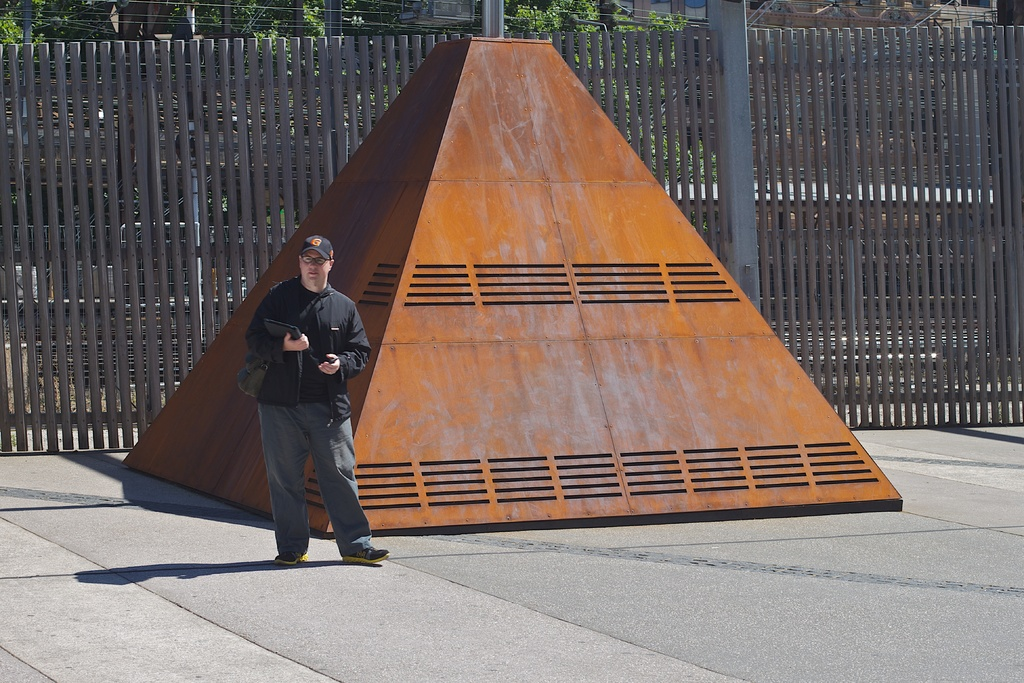Footwear: (342, 546, 390, 564), (273, 550, 307, 565)
